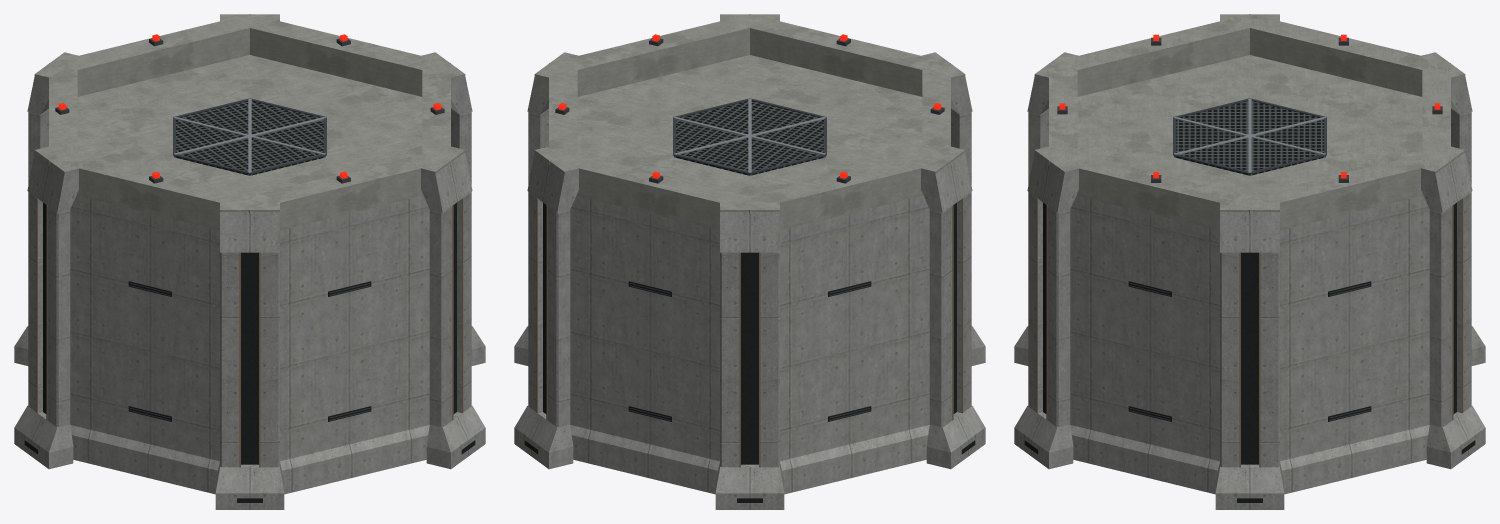
Rendered from pier.glb.
The picture shows the model from 3 angles, left to right: view 1: azimuth 30°, elevation 25°; view 2: azimuth 150°, elevation 25°; view 3: azimuth 270°, elevation 25°; orthographic projection.
Visible parts, largest first — view 1: pier-lod0-roof0, pier-lod0-base0, pier-lod0-floor0; view 2: pier-lod0-roof0, pier-lod0-base0, pier-lod0-floor0; view 3: pier-lod0-roof0, pier-lod0-base0, pier-lod0-floor0.
Boxes of the visible parts, <box> form: pier-lod0-roof0: <box>27,14,472,255</box>; pier-lod0-base0: <box>14,319,485,509</box>; pier-lod0-floor0: <box>28,111,471,379</box>; pier-lod0-roof0: <box>527,14,972,255</box>; pier-lod0-base0: <box>514,319,985,509</box>; pier-lod0-floor0: <box>528,111,971,379</box>; pier-lod0-roof0: <box>1027,14,1472,255</box>; pier-lod0-base0: <box>1014,319,1485,509</box>; pier-lod0-floor0: <box>1028,111,1471,379</box>.
Size of what is drawn, in the model's own units: 65.96 by 43.07 by 61.52.
8 materials, 7 textured.
